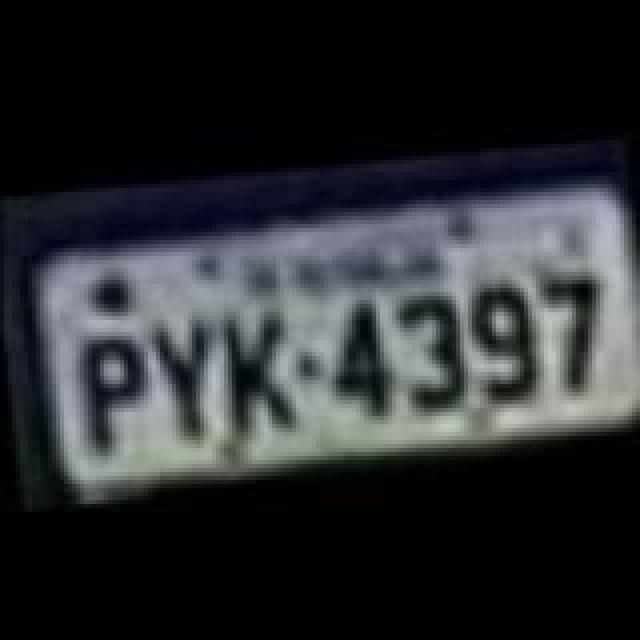3: (384, 284, 468, 412)
4: (320, 290, 404, 418)
7: (538, 268, 618, 396)
9: (452, 270, 544, 406)
K: (218, 304, 298, 440)
P: (76, 326, 156, 450)
Y: (142, 316, 222, 444)
